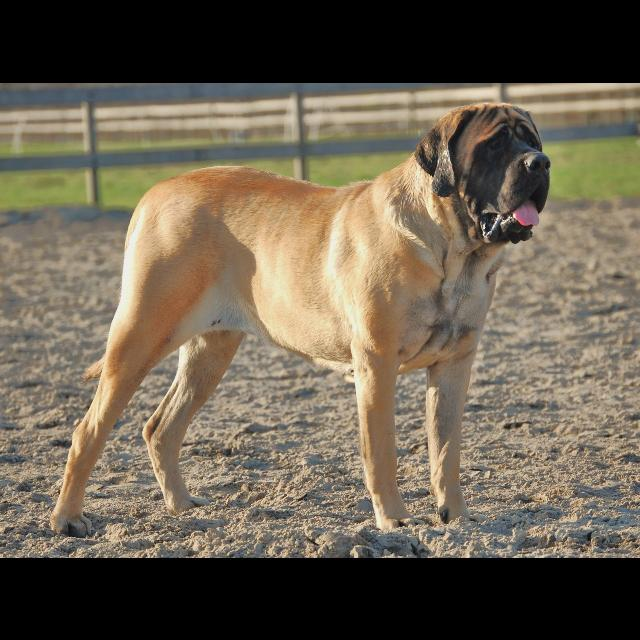mastiff: (50, 102, 552, 539)
